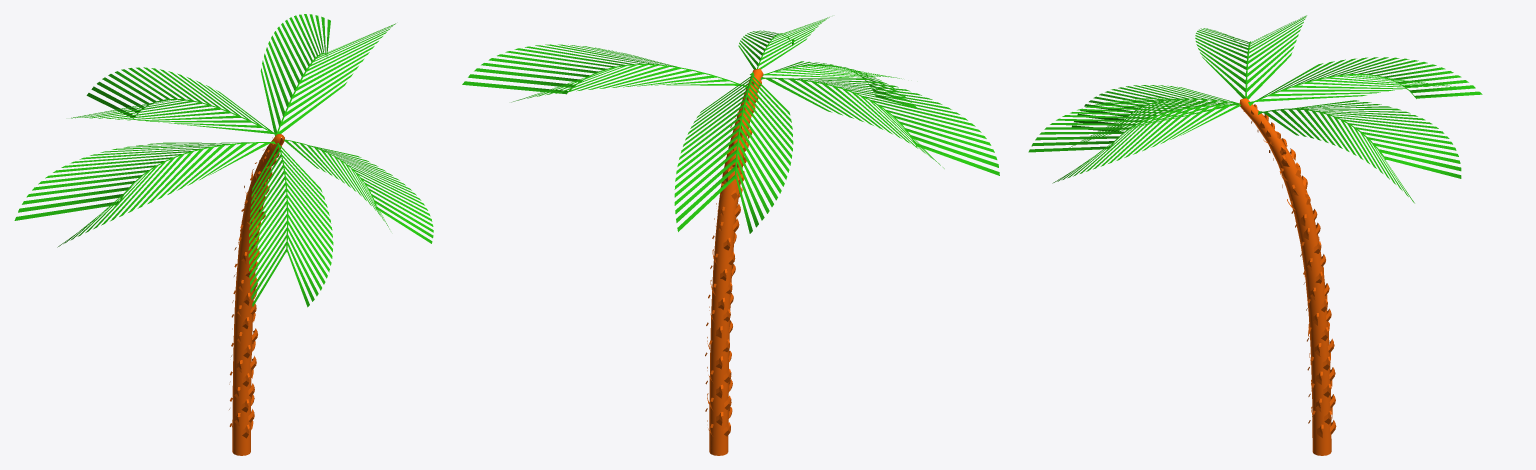
File: palmTree.gltf
The picture shows the model from 3 angles, left to right: view 1: azimuth 30°, elevation 25°; view 2: azimuth 150°, elevation 25°; view 3: azimuth 270°, elevation 25°; orthographic projection. The views are drawn at different scales.
Visible parts, largest first — view 1: BezierCurve.003, BezierCurve; view 2: BezierCurve.003, BezierCurve; view 3: BezierCurve.003, BezierCurve.
Boxes of the visible parts, bbox=[...] form: BezierCurve.003: bbox=[14, 14, 433, 307]; BezierCurve: bbox=[229, 134, 284, 455]; BezierCurve.003: bbox=[462, 17, 999, 233]; BezierCurve: bbox=[705, 68, 763, 455]; BezierCurve.003: bbox=[1028, 15, 1482, 203]; BezierCurve: bbox=[1239, 98, 1336, 455].
Bounding box in the file's own units: 19.73 × 15.75 × 18.68.
